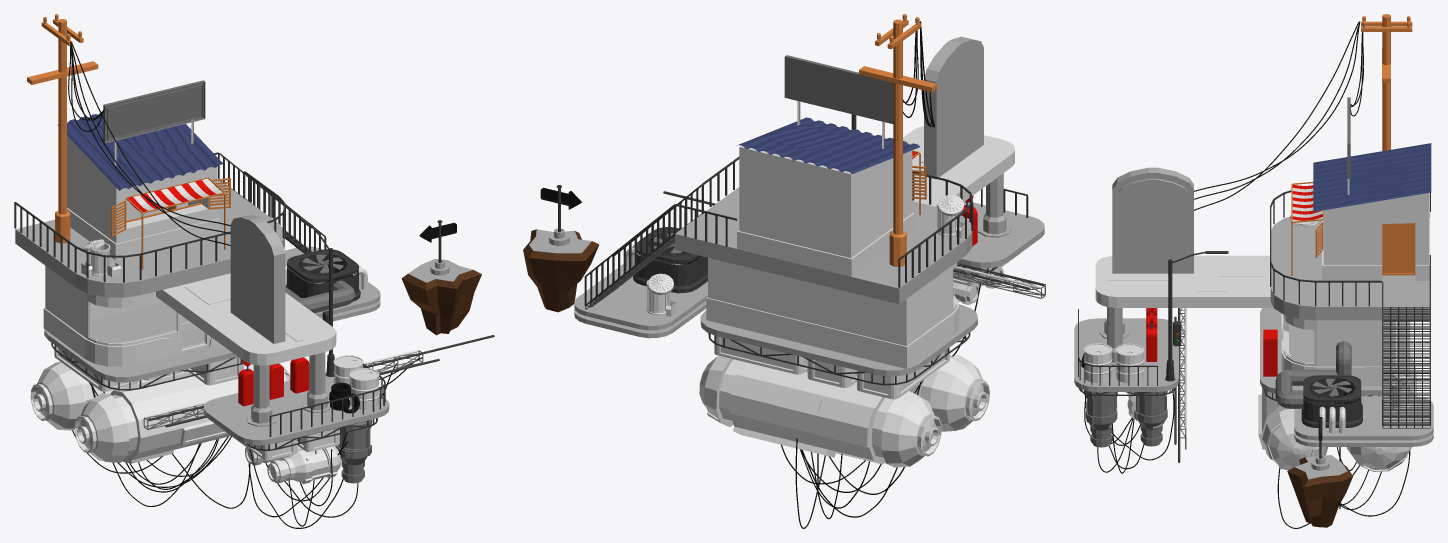
The model's file is Cloud66Scene.glb.
3 views of the same model, side by side, from view 1: azimuth 30°, elevation 25°; view 2: azimuth 150°, elevation 25°; view 3: azimuth 270°, elevation 25° (orthographic). The views are drawn at different scales.
Parts seen in each view (by area): view 1: Platform, Tank, Building1.001, Building2, Pump, Sign, Plane.002, Simple_GP_Layer, Plane.008, railing, Island, Tank.001 (+31 smaller); view 2: Building2, Tank.001, Platform, Building1, Building1.001, Sign, Building1.003, railing, Plane.008, Island, Plane.002, Streetpole (+14 smaller); view 3: Platform, Building1.001, Building2, Sign, Pump, Building1.006, Plane.002, Building1, Island, Simple_GP_Layer, Tank, powersource (+21 smaller).
Part boxes in pixels (x1,y1,x2,y2): Platform: [44, 246, 389, 445]; Tank: [74, 363, 290, 463]; Building1.001: [15, 181, 284, 297]; Building2: [67, 135, 219, 260]; Pump: [156, 273, 336, 365]; Sign: [230, 214, 285, 343]; Plane.002: [58, 113, 223, 190]; Simple_GP_Layer: [68, 41, 422, 528]; Plane.008: [103, 80, 205, 143]; railing: [14, 152, 326, 282]; Island: [401, 259, 481, 335]; Tank.001: [30, 361, 187, 430]; Building2: [737, 146, 914, 276]; Tank.001: [699, 355, 941, 467]; Platform: [574, 201, 1044, 376]; Building1: [708, 257, 957, 346]; Building1.001: [675, 187, 972, 304]; Sign: [924, 36, 983, 179]; Building1.003: [706, 297, 959, 368]; railing: [584, 156, 973, 306]; Plane.008: [784, 55, 893, 123]; Island: [523, 229, 599, 312]; Plane.002: [737, 117, 919, 174]; Streetpole: [859, 14, 937, 266]; Platform: [1074, 308, 1433, 446]; Building1.001: [1270, 212, 1430, 320]; Building2: [1322, 193, 1430, 280]; Sign: [1112, 167, 1193, 273]; Pump: [1095, 255, 1273, 307]; Building1.006: [1382, 307, 1430, 428]; Plane.002: [1313, 143, 1431, 211]; Building1: [1284, 315, 1395, 366]; Island: [1287, 455, 1352, 527]; Simple_GP_Layer: [1081, 21, 1410, 528]; Tank: [1258, 388, 1327, 470]; powersource: [1301, 375, 1362, 427].
Size of the model in its own units: 8.07 by 9.12 by 6.47.
